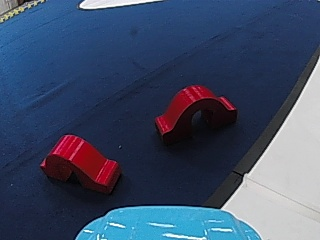bridge: (147, 81, 241, 140), (41, 132, 124, 194)
